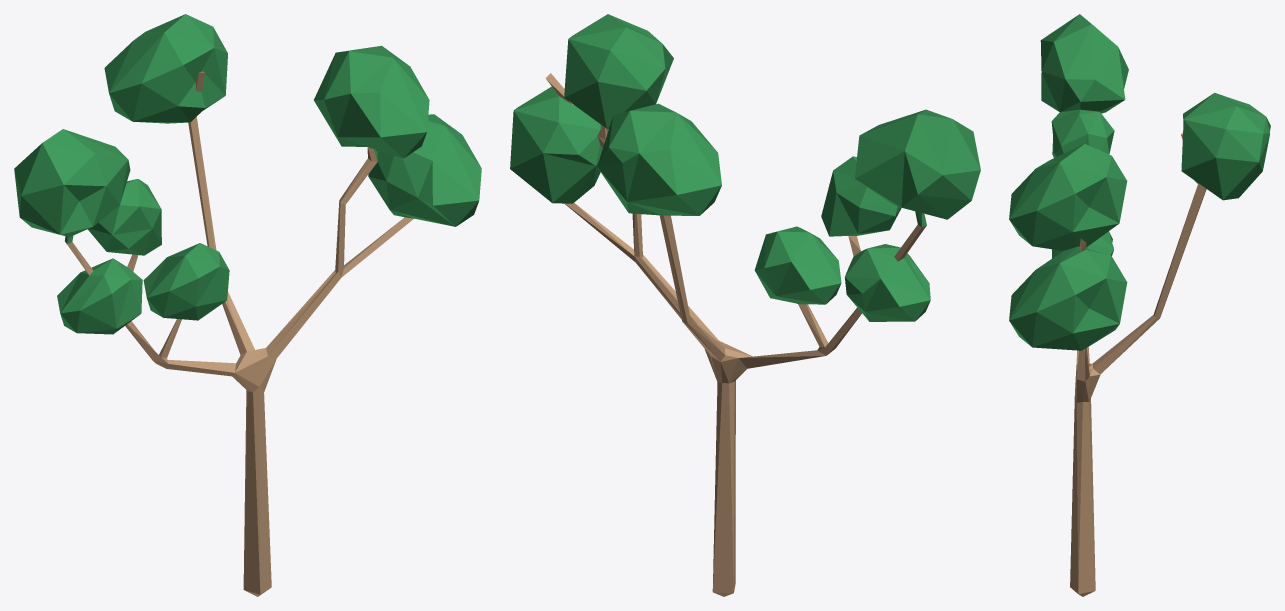
The model's file is tree44.fbx.
The picture shows the model from 3 angles, left to right: view 1: azimuth 30°, elevation 25°; view 2: azimuth 150°, elevation 25°; view 3: azimuth 270°, elevation 25°; orthographic projection. The views are drawn at different scales.
Parts seen in each view (by area): view 1: treetype44; view 2: treetype44; view 3: treetype44.
Part boxes in pixels (left/top/right/bottom): treetype44: left=14, top=14, right=481, bottom=596; treetype44: left=510, top=14, right=980, bottom=596; treetype44: left=1009, top=14, right=1270, bottom=596.
Bounding box in the file's own units: 195 × 220 × 105.
